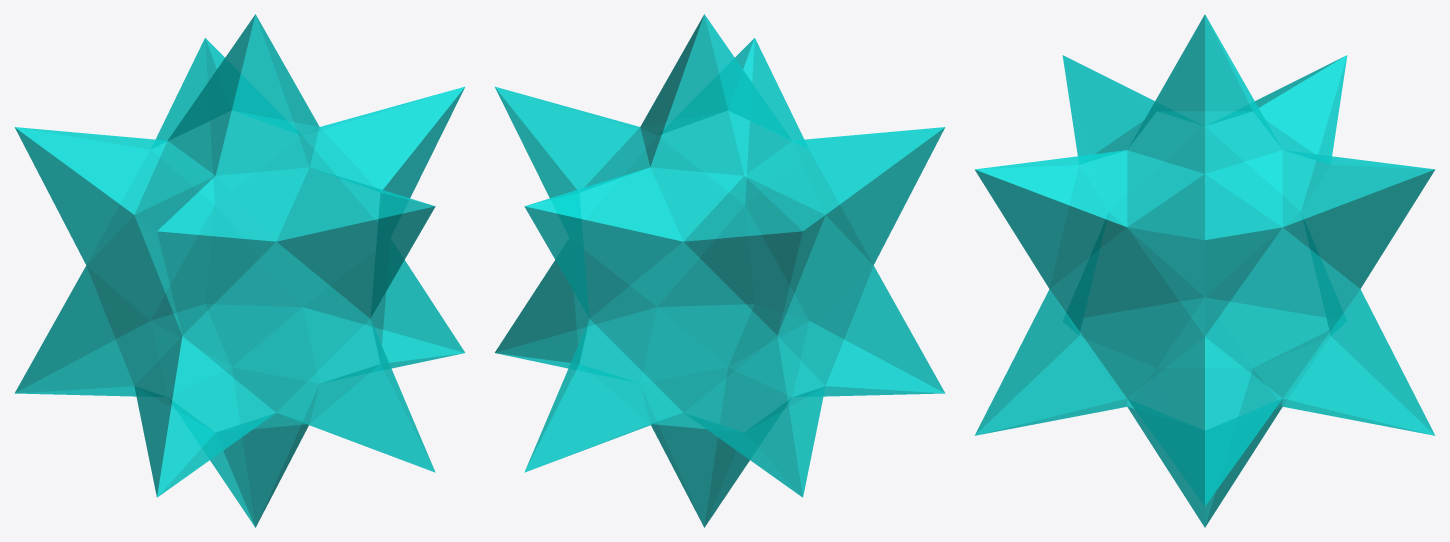
Rendered from Bullet.fbx.
3 views of the same model, side by side, from view 1: azimuth 30°, elevation 25°; view 2: azimuth 150°, elevation 25°; view 3: azimuth 270°, elevation 25° (orthographic).
Visible parts, largest first — view 1: pSphere1; view 2: pSphere1; view 3: pSphere1.
Part boxes in pixels (<box>): pSphere1: <box>14,14,464,527</box>; pSphere1: <box>495,14,945,527</box>; pSphere1: <box>974,14,1435,527</box>.
Size of the model in its own units: 2.32 by 3 by 2.44.
